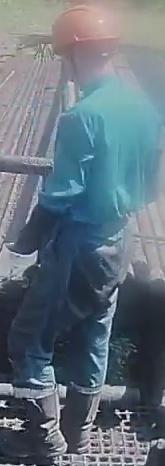helmet: (48, 1, 124, 51)
vest: (49, 78, 161, 237)
